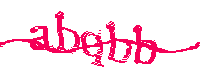a: (30, 24, 50, 52)
b: (55, 9, 81, 54), (107, 20, 131, 64), (133, 22, 158, 64)
q: (81, 29, 105, 69)
